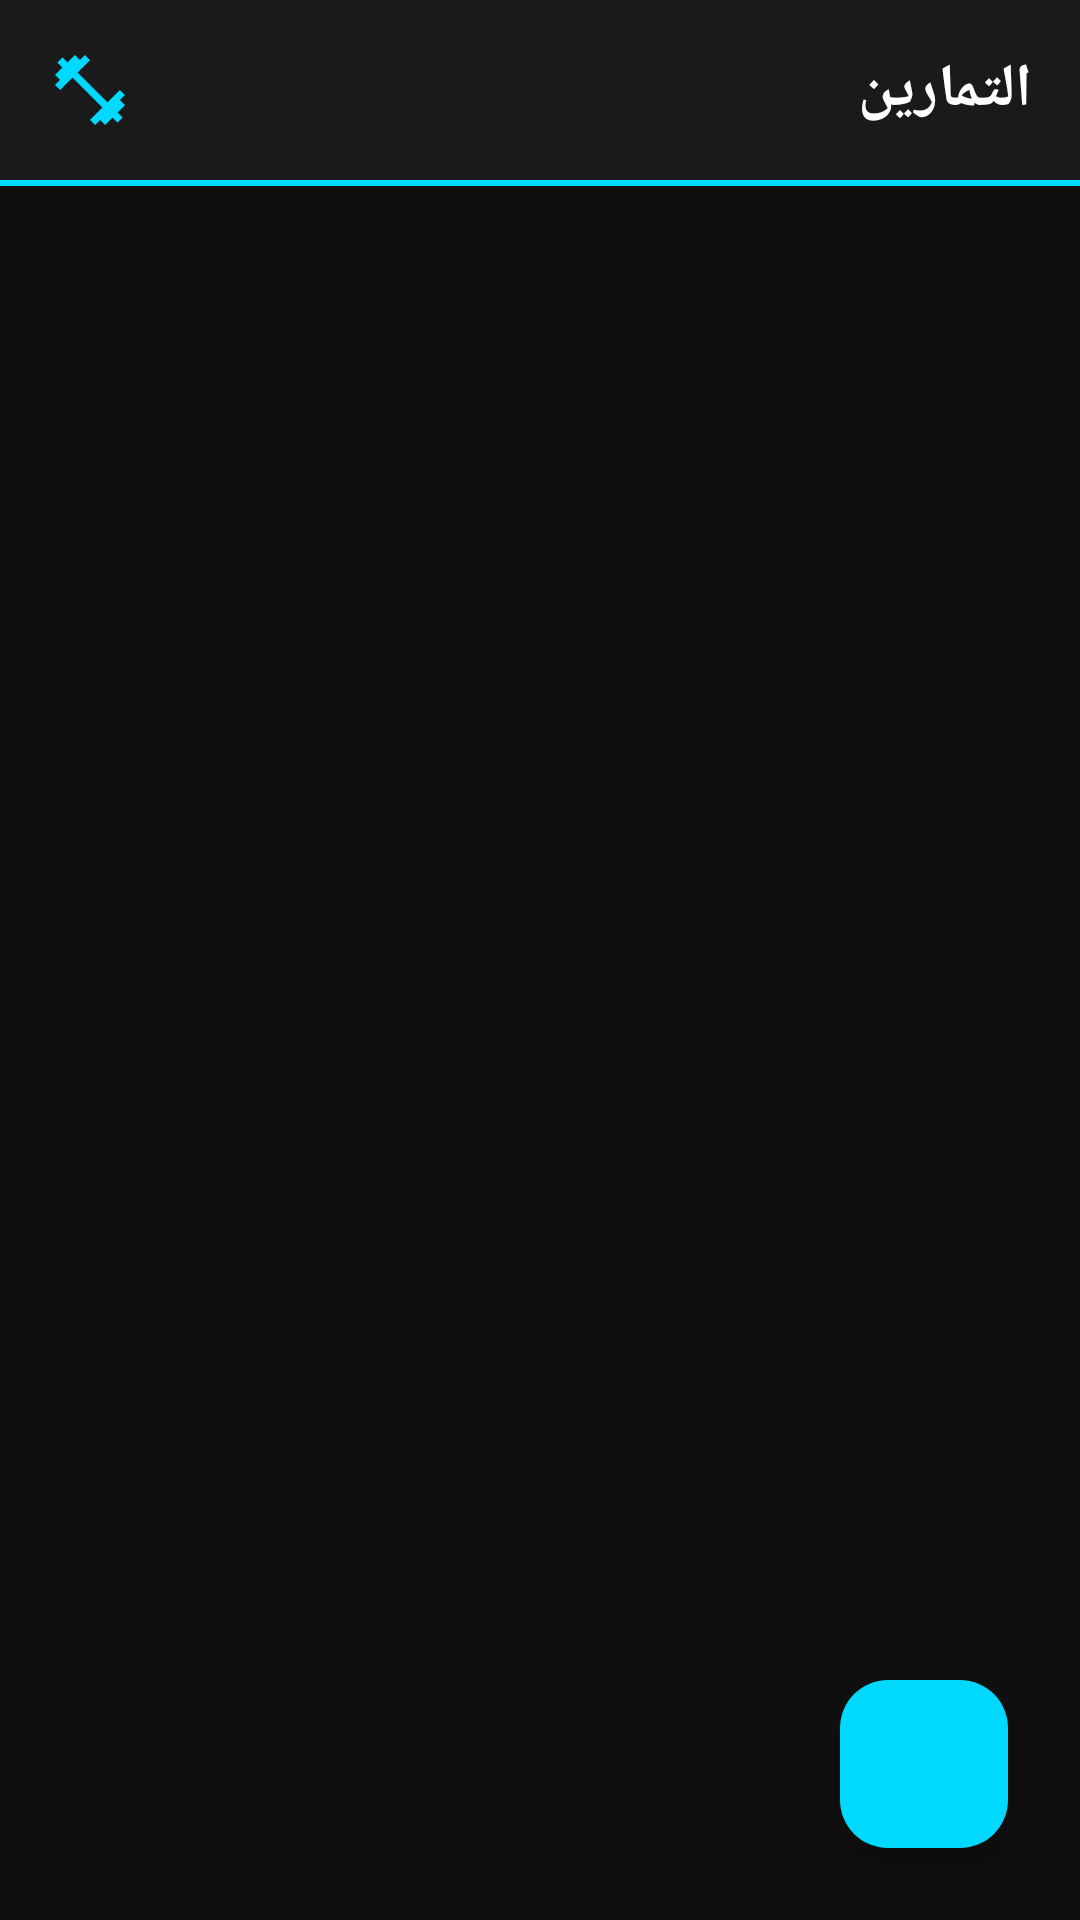

Icon click points for this 1080*1920 phone screenshot, format point (x, y):
workout: point (90, 90)
